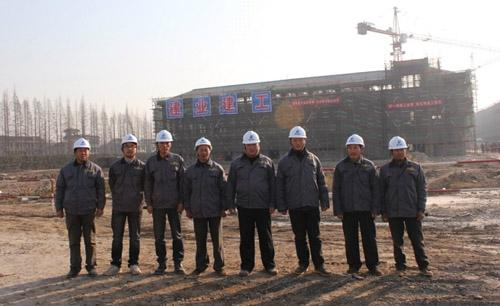helmet: (386, 135, 409, 150), (240, 129, 260, 145), (286, 126, 307, 140), (154, 129, 175, 143), (345, 133, 366, 146), (72, 138, 92, 150), (120, 133, 140, 144), (194, 136, 213, 146)
wear: (277, 150, 326, 211), (376, 162, 423, 219), (233, 157, 277, 212), (143, 155, 186, 211), (183, 163, 226, 216), (334, 160, 372, 214), (60, 162, 98, 215), (109, 159, 146, 210)
